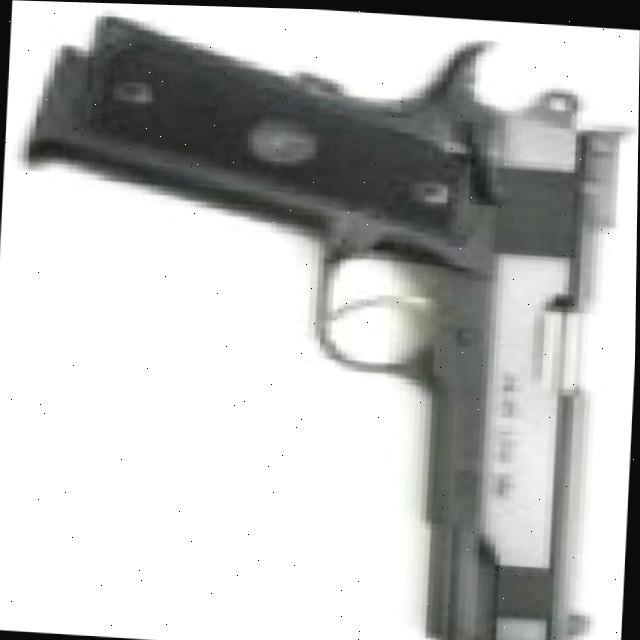gun: (11, 9, 638, 640)
